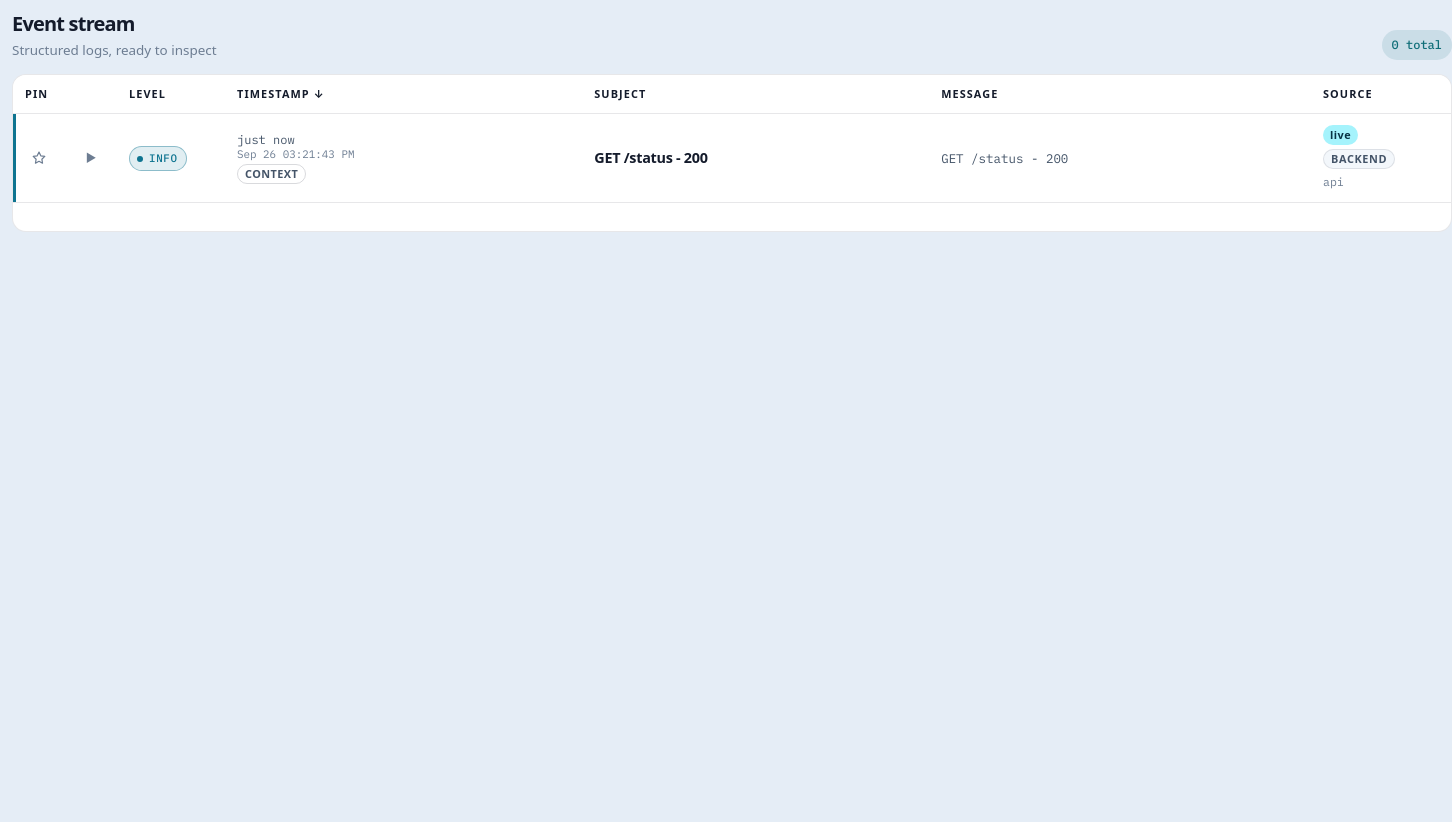
Test: LogTable (lazy details) › renders a real bucket status probe without the archive placeholders
Check: the text "live" is shown, box [1323,126,1358,146]
Step 1. Click the button "▶" → (91, 158), box [77,144,105,172]
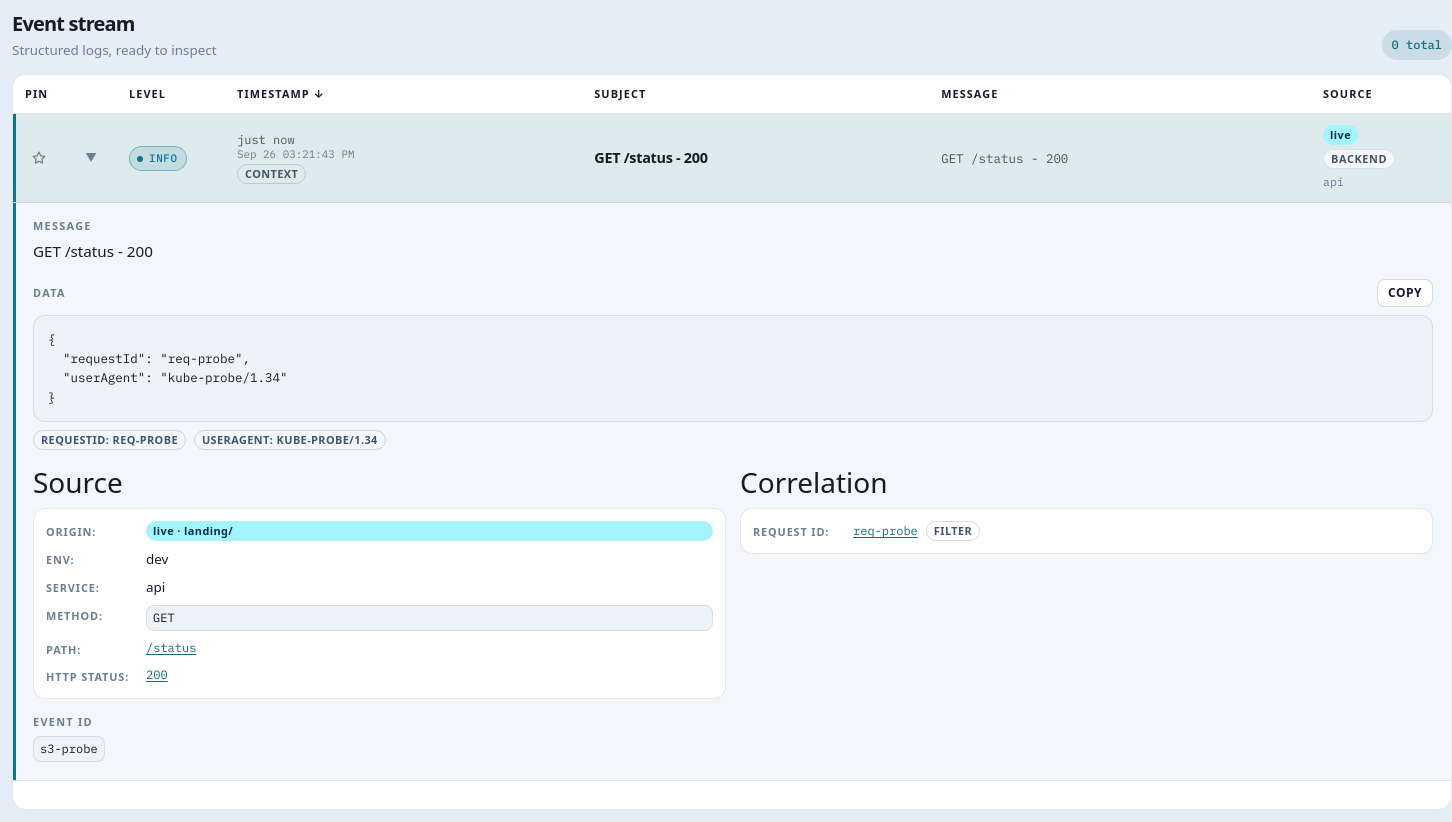
Check: the text "dev" is shown, box [146,550,168,568]
Check: the button "/status" is shown, box [146,639,713,657]
Check: the button "200" is shown, box [146,666,713,684]
